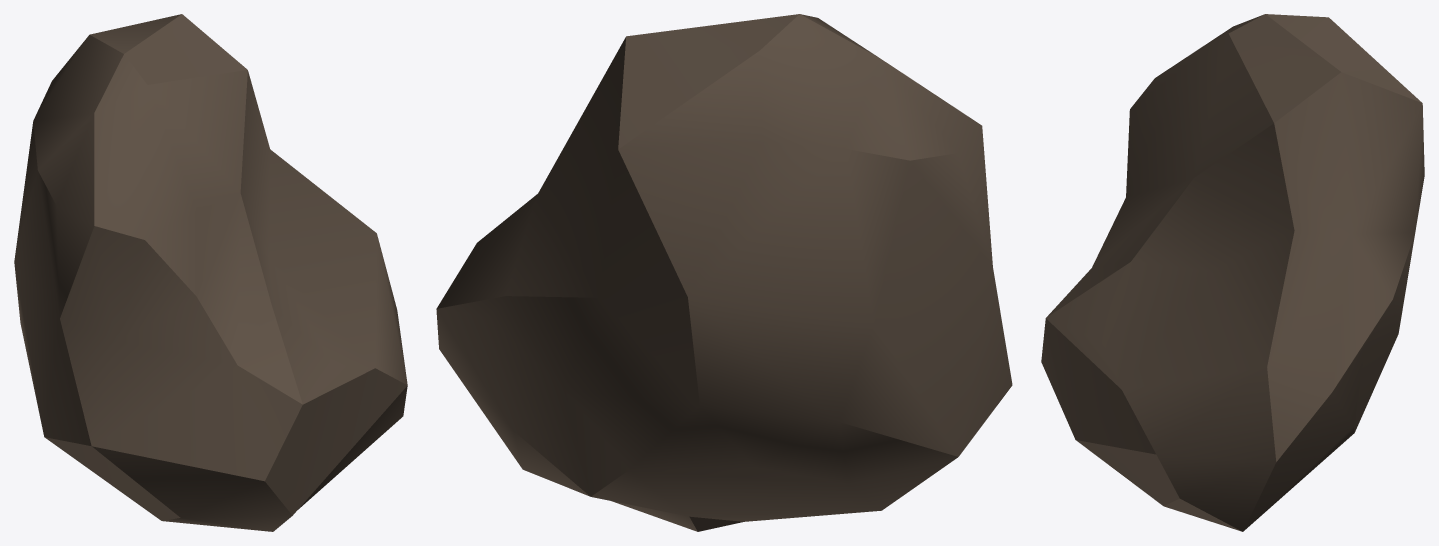
The model's file is rock_005.fbx.
3 views of the same model, side by side, from view 1: azimuth 30°, elevation 25°; view 2: azimuth 150°, elevation 25°; view 3: azimuth 270°, elevation 25° (orthographic). The views are drawn at different scales.
Parts seen in each view (by area): view 1: rock.005; view 2: rock.005; view 3: rock.005.
Boxes of the visible parts, <box> form: rock.005: <box>14,14,407,531</box>; rock.005: <box>436,14,1012,531</box>; rock.005: <box>1041,14,1424,531</box>.
Bounding box in the file's own units: 97.93 × 112 × 86.98.
